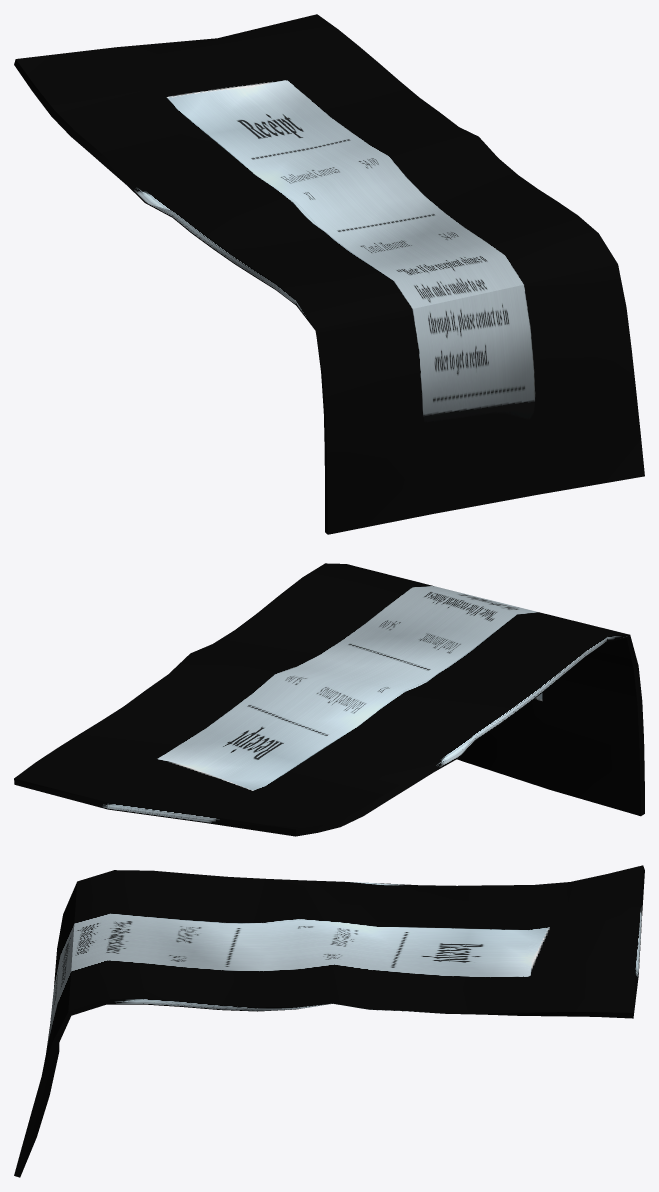
The model's file is receiptCenter.fbx.
3 views of the same model, one above another, from view 1: azimuth 30°, elevation 25°; view 2: azimuth 150°, elevation 25°; view 3: azimuth 270°, elevation 25° (orthographic). The views are drawn at different scales.
Parts seen in each view (by area): view 1: Reciept; view 2: Reciept; view 3: Reciept.
Part boxes in pixels (box(x1,y1,x2,y2)): Reciept: box(14, 14, 644, 534); Reciept: box(14, 563, 644, 836); Reciept: box(14, 865, 644, 1177).
Size of the model in its own units: 50.53 by 33.91 by 98.18.
